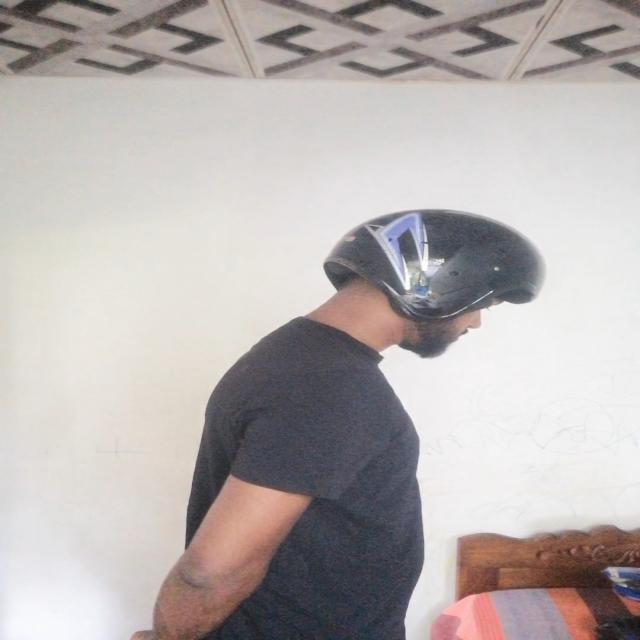Helmet_Wearer: (288, 196, 556, 386)
Person: (176, 196, 555, 640)
